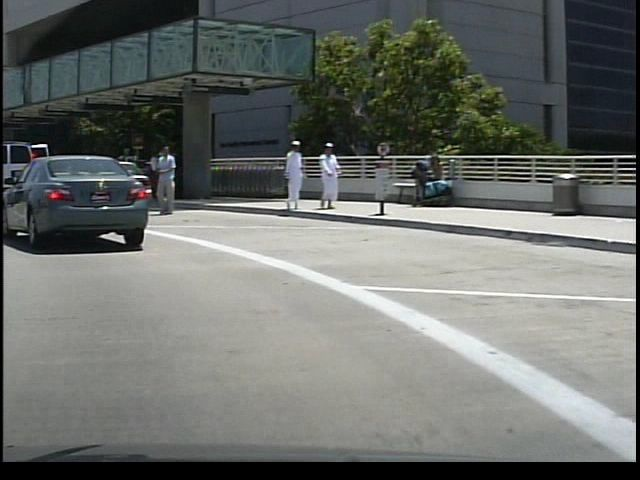person: (152, 143, 180, 221), (312, 138, 341, 212), (277, 135, 305, 211)
